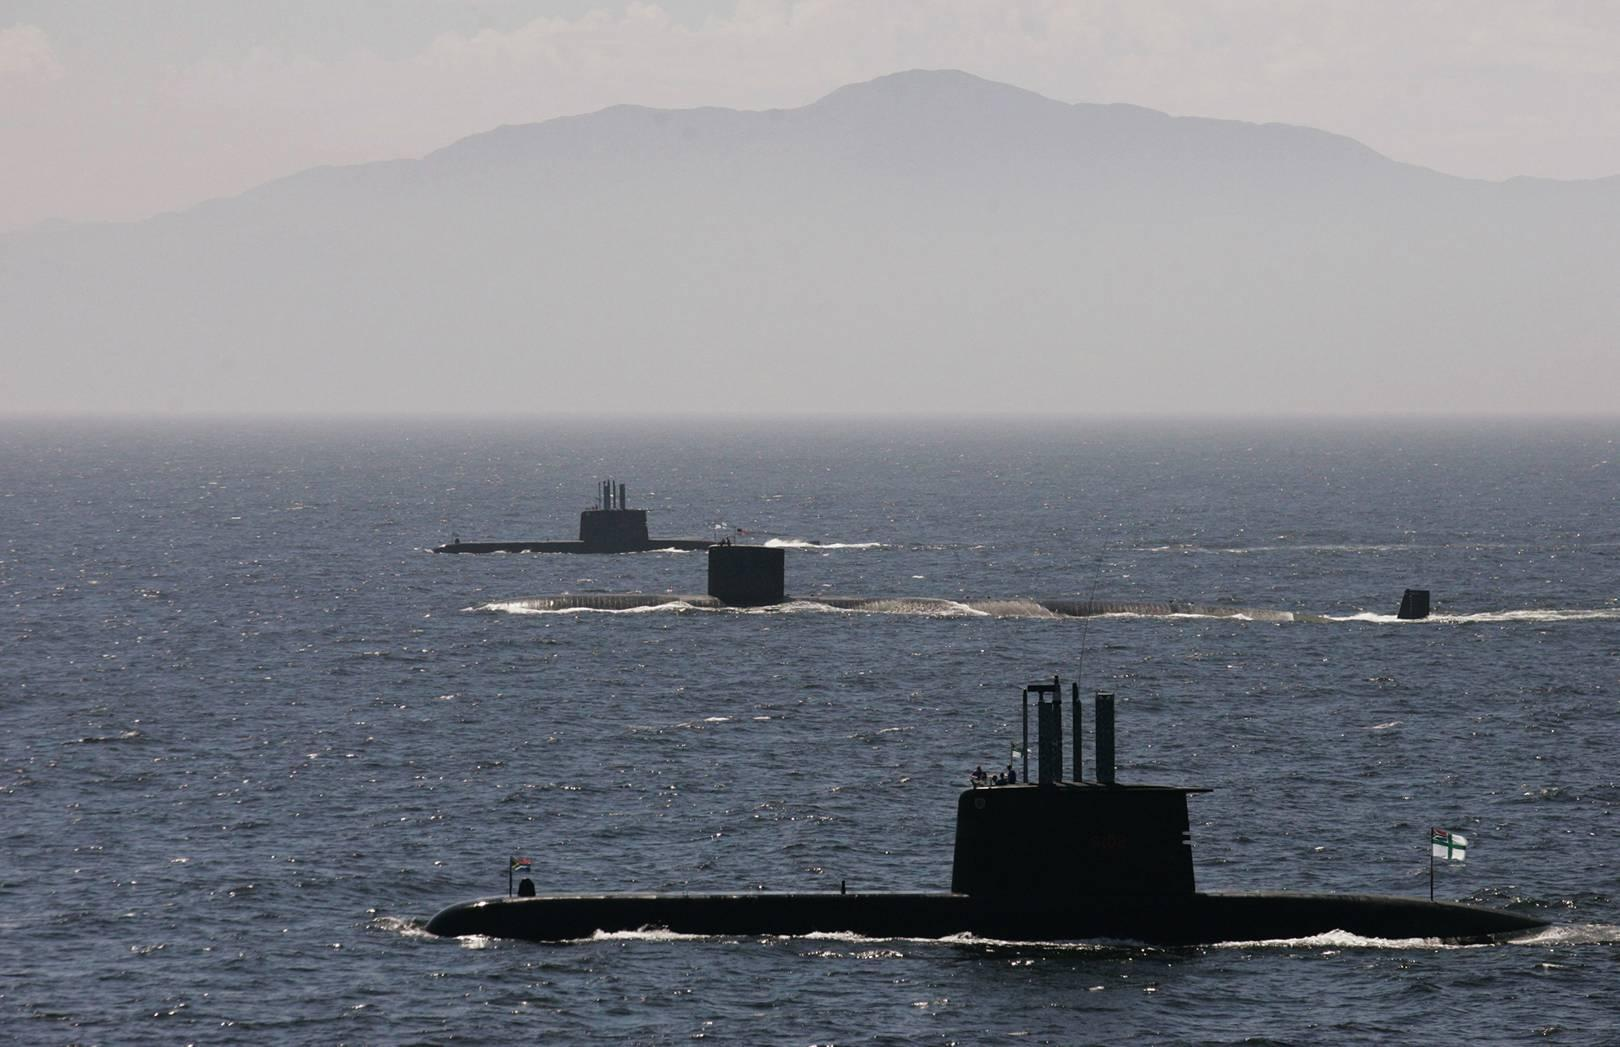Submarine: (380, 667, 1618, 1002)
